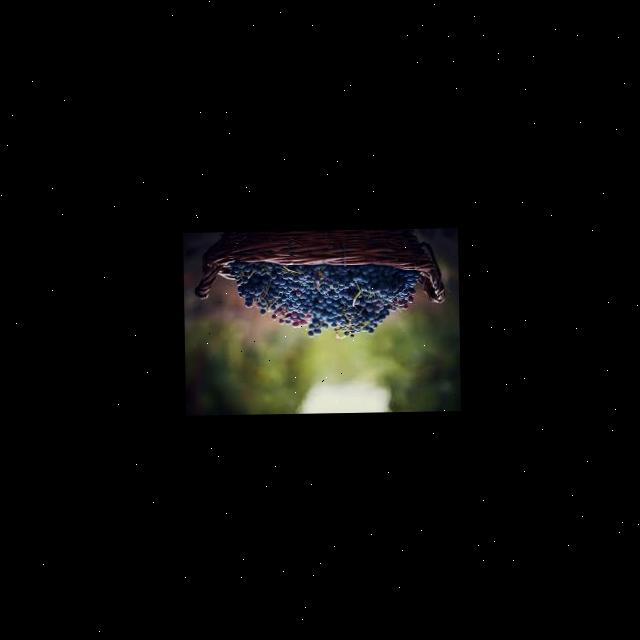grape: (226, 257, 420, 340)
